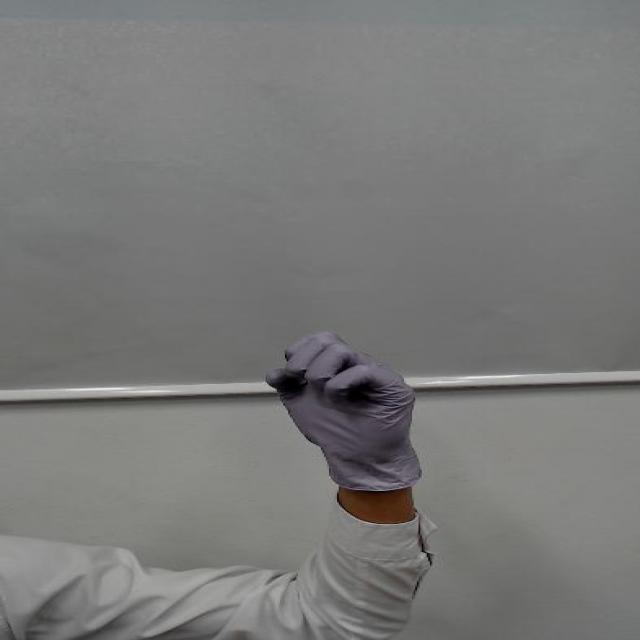with_gloves: (240, 317, 490, 475)
